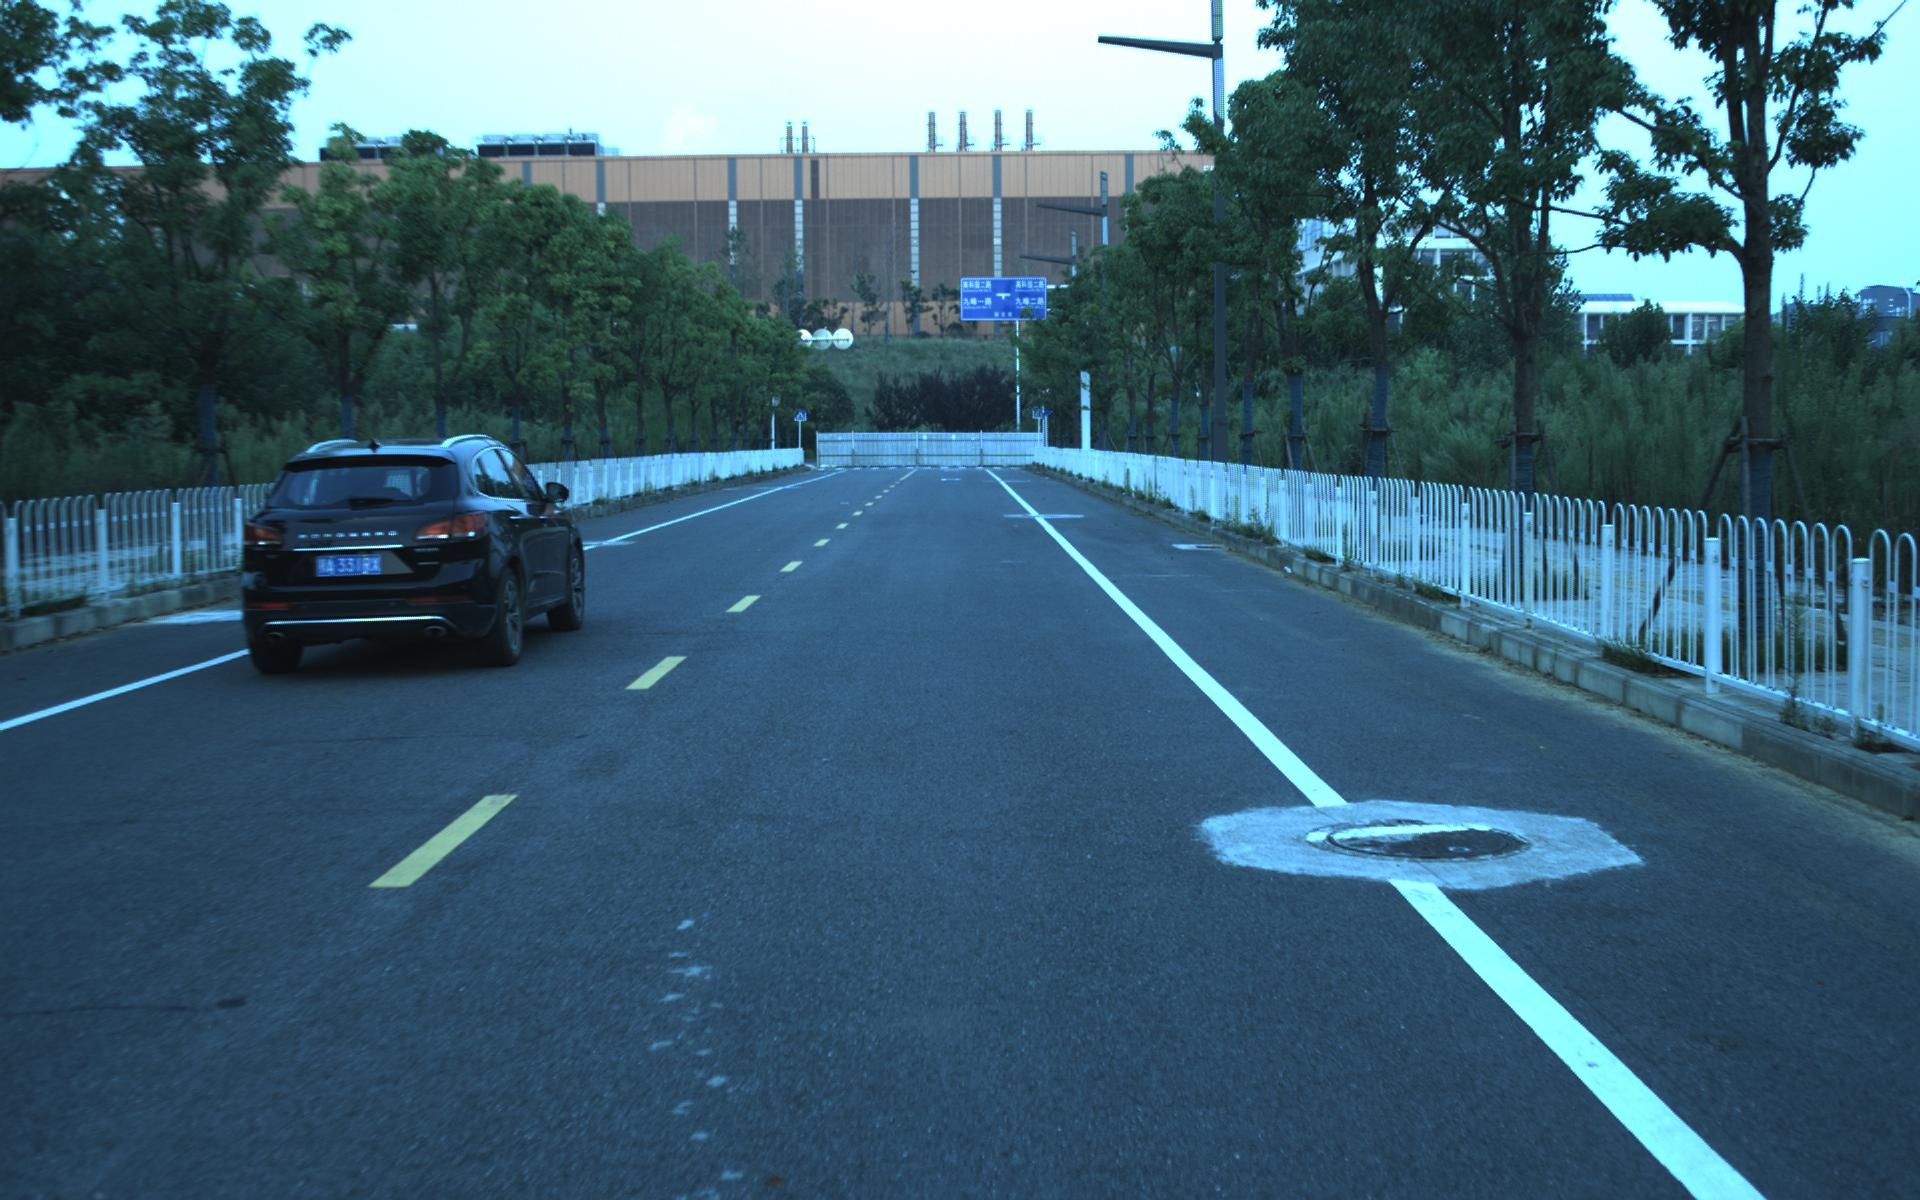Car: (223, 426, 589, 675)
